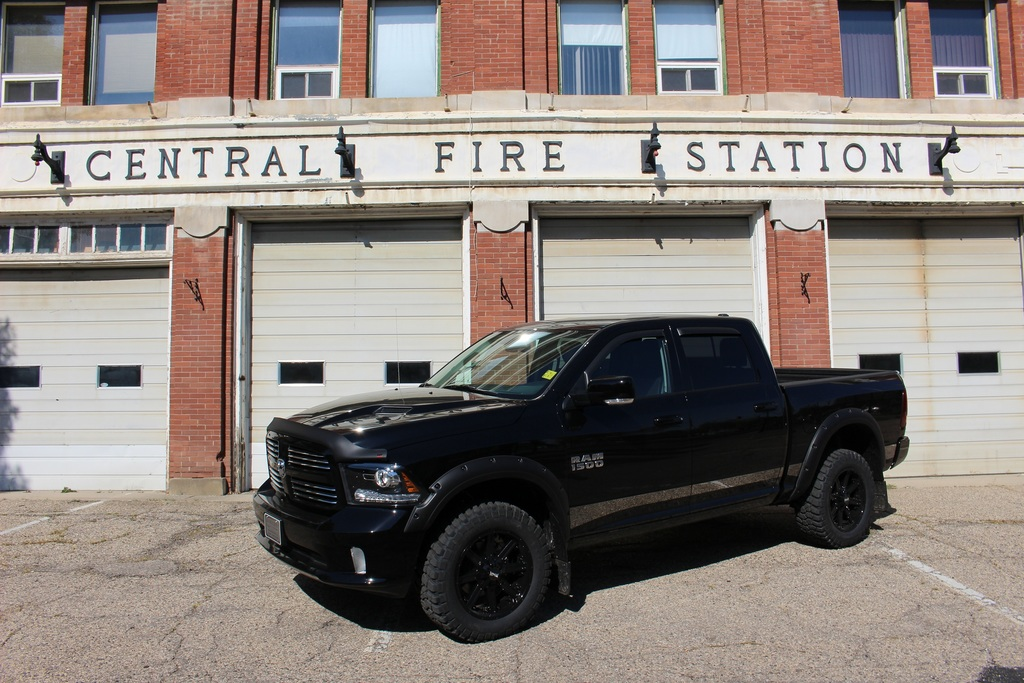mobil: (287, 283, 935, 620)
